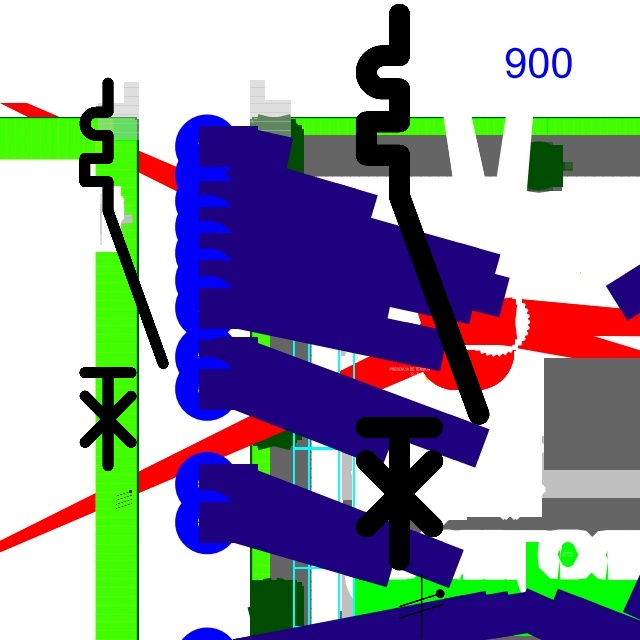interruptor_termomagnetico: (352, 0, 492, 574), (75, 73, 173, 475)
